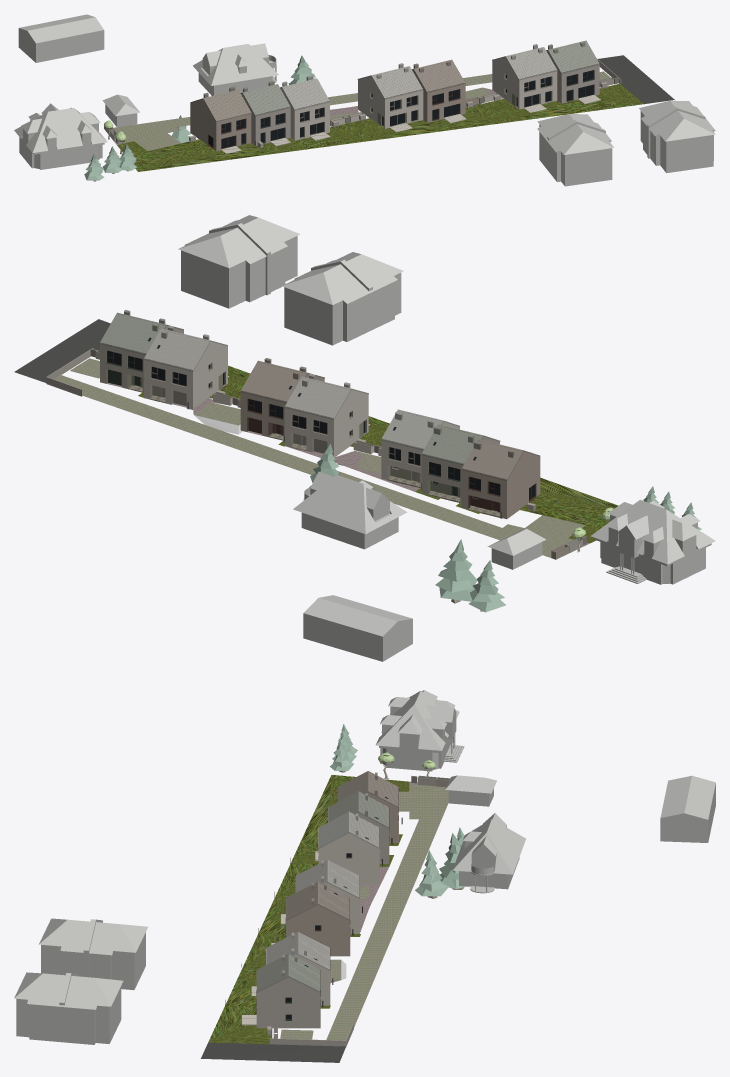
Rendered from bor2-zewnetrze-v6.glb.
The picture shows the model from 3 angles, top to bottom: view 1: azimuth 30°, elevation 25°; view 2: azimuth 150°, elevation 25°; view 3: azimuth 270°, elevation 25°; orthographic projection. The views are drawn at different scales.
Parts seen in each view (by area): view 1: ZIEMIA, KONTEKST_8, KONTEKST_4, KONTEKST_2, DOM_D, DOM_B, KONTEKST_6, KONTEKST_5, DOM_G, DOM_C, DOM_A, DOM_E (+7 smaller); view 2: ZIEMIA, KONTEKST_8, KONTEKST_3, KONTEKST_1, KONTEKST_6, DOM_B, DOM_D, KONTEKST_5, DOM_G, ZIELEN, DOM_C, DOM_A (+6 smaller); view 3: ZIEMIA, KONTEKST_8, DOM_A, KONTEKST_6, KONTEKST_3, DOM_C, KONTEKST_1, DOM_E, KONTEKST_5, KONTEKST_4, ZIELEN, KONTEKST_2 (+6 smaller).
Part boxes in pixels (left/top/right/bottom): ZIEMIA: left=113, top=55, right=674, bottom=171; KONTEKST_8: left=14, top=103, right=107, bottom=169; KONTEKST_4: left=648, top=107, right=715, bottom=173; KONTEKST_2: left=547, top=121, right=613, bottom=186; DOM_D: left=357, top=63, right=423, bottom=128; DOM_B: left=492, top=44, right=557, bottom=109; KONTEKST_6: left=193, top=43, right=278, bottom=95; KONTEKST_5: left=18, top=14, right=104, bottom=62; DOM_G: left=190, top=86, right=251, bottom=150; DOM_C: left=412, top=59, right=465, bottom=122; DOM_A: left=546, top=40, right=599, bottom=103; DOM_E: left=280, top=75, right=329, bottom=140; ZIEMIA: left=14, top=319, right=618, bottom=558; KONTEKST_8: left=590, top=500, right=715, bottom=584; KONTEKST_3: left=178, top=224, right=268, bottom=308; KONTEKST_1: left=282, top=260, right=371, bottom=345; KONTEKST_6: left=293, top=471, right=407, bottom=549; DOM_B: left=143, top=325, right=227, bottom=409; DOM_D: left=284, top=374, right=368, bottom=457; KONTEKST_5: left=303, top=595, right=412, bottom=661; DOM_G: left=461, top=439, right=540, bottom=519; ZIELEN: left=309, top=443, right=701, bottom=612; DOM_C: left=240, top=358, right=324, bottom=440; DOM_A: left=99, top=310, right=183, bottom=392; ZIEMIA: left=201, top=775, right=448, bottom=1062; KONTEKST_8: left=375, top=690, right=464, bottom=771; DOM_A: left=256, top=954, right=320, bottom=1028; KONTEKST_6: left=452, top=813, right=525, bottom=893; KONTEKST_3: left=61, top=973, right=123, bottom=1044; DOM_C: left=285, top=882, right=350, bottom=956; KONTEKST_1: left=86, top=919, right=147, bottom=989; DOM_E: left=318, top=811, right=379, bottom=884; KONTEKST_5: left=660, top=775, right=715, bottom=842; KONTEKST_4: left=14, top=972, right=68, bottom=1042; ZIELEN: left=330, top=724, right=465, bottom=898; KONTEKST_2: left=39, top=918, right=93, bottom=976.
Bounding box in the file's own units: 121 × 19.43 × 110.
Materials: 27 (5 with a texture image).
